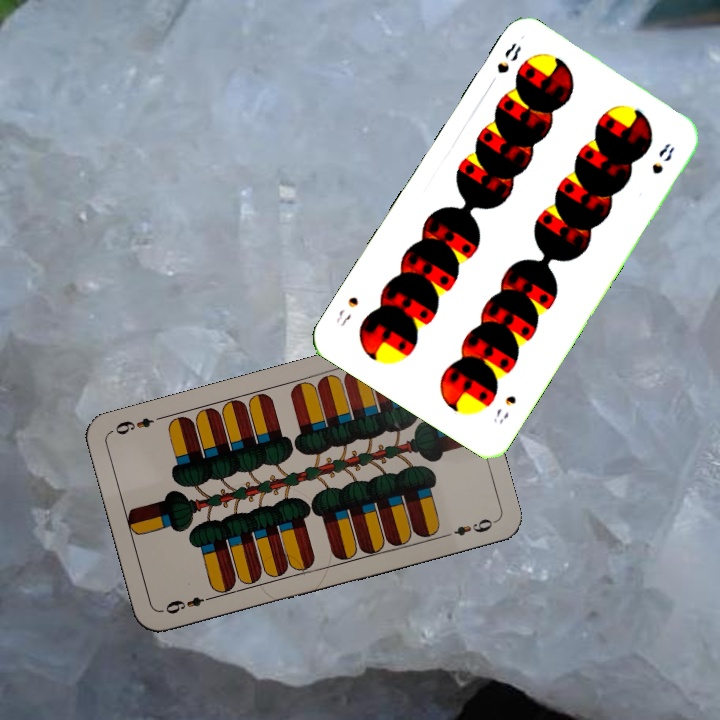E9: (161, 592, 217, 617)
S8: (492, 38, 524, 76), (489, 391, 519, 426)
